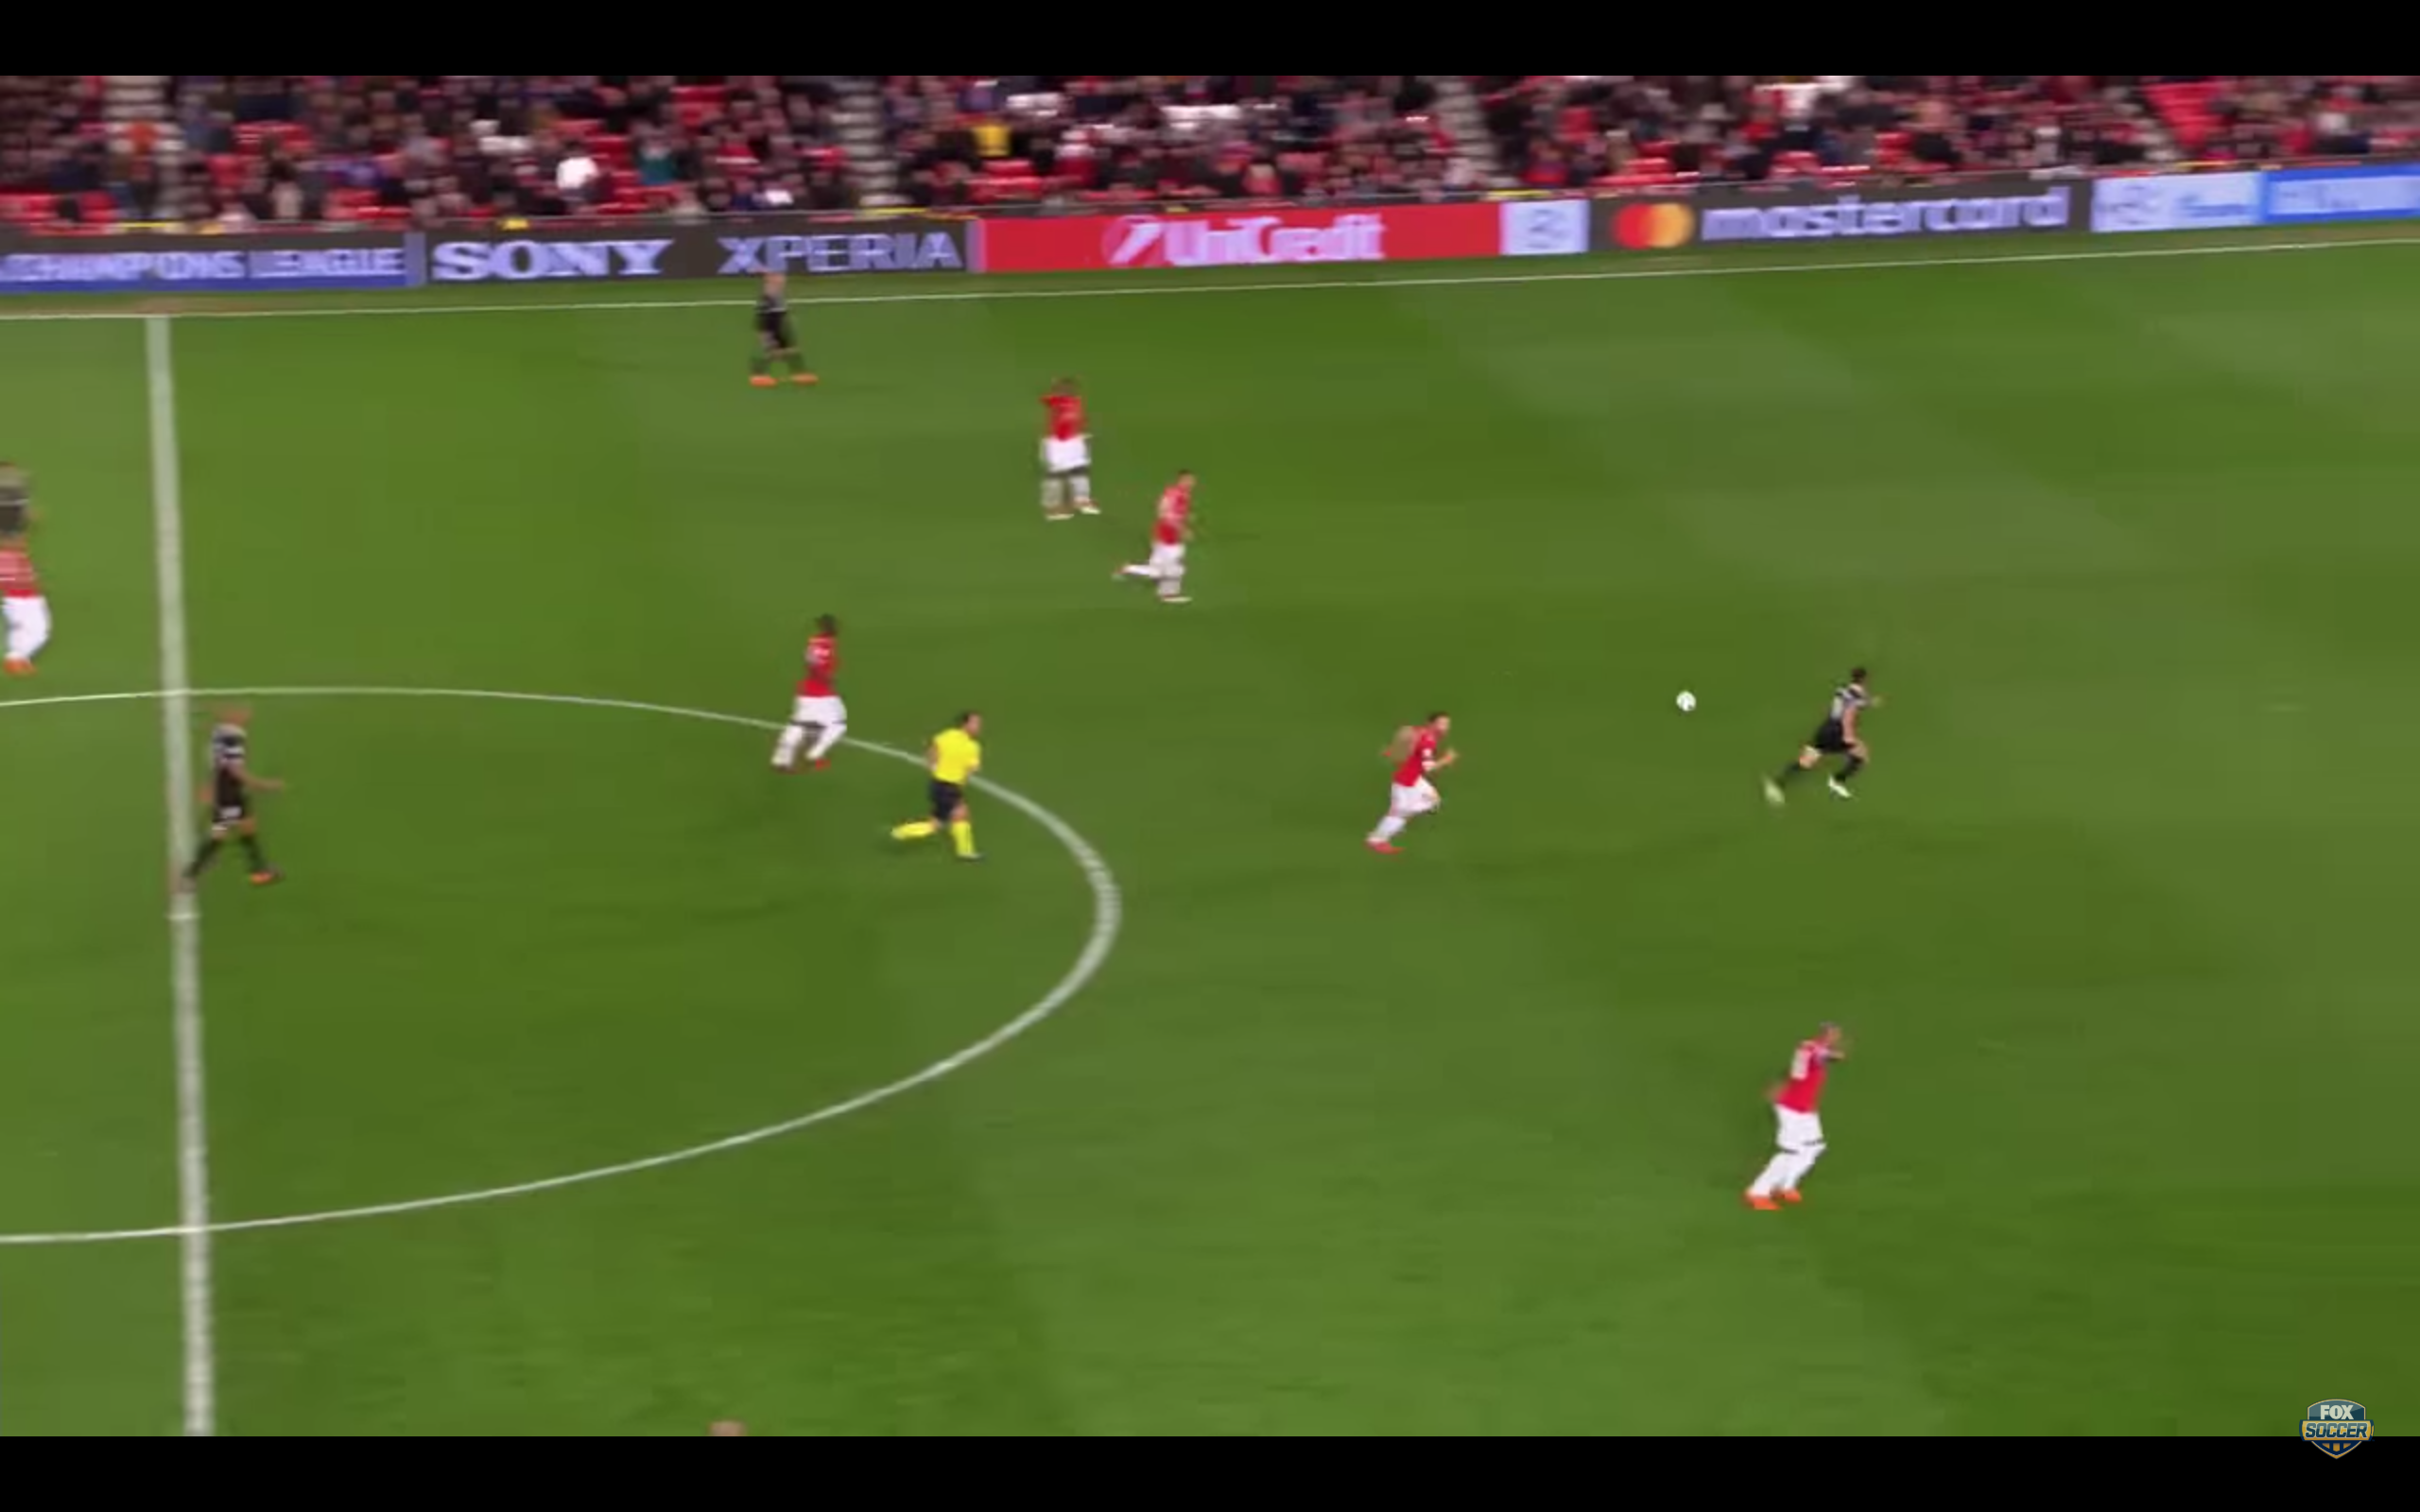referee: (884, 696, 989, 873)
soccer player: (1737, 1011, 1858, 1226), (171, 689, 284, 901), (1750, 663, 1895, 812), (1367, 707, 1471, 870), (767, 602, 848, 781), (1111, 462, 1205, 610), (1032, 368, 1098, 531), (2, 533, 66, 689), (753, 252, 807, 398)
